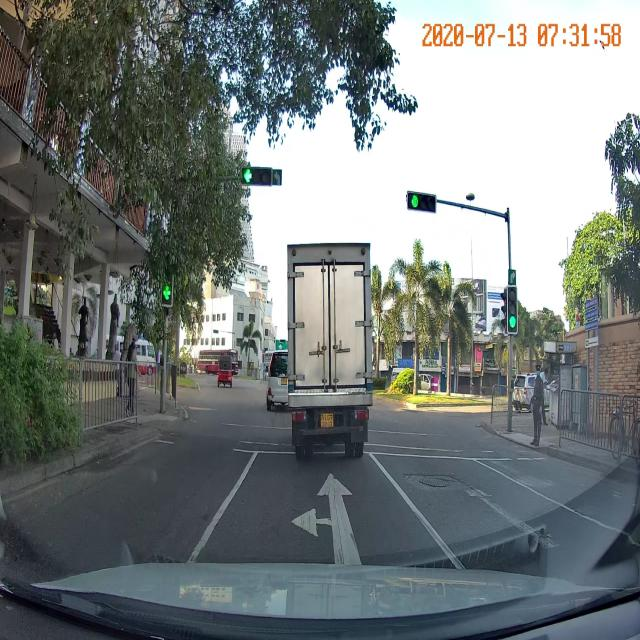forward_lft: (184, 455, 470, 563), (194, 486, 441, 529)
